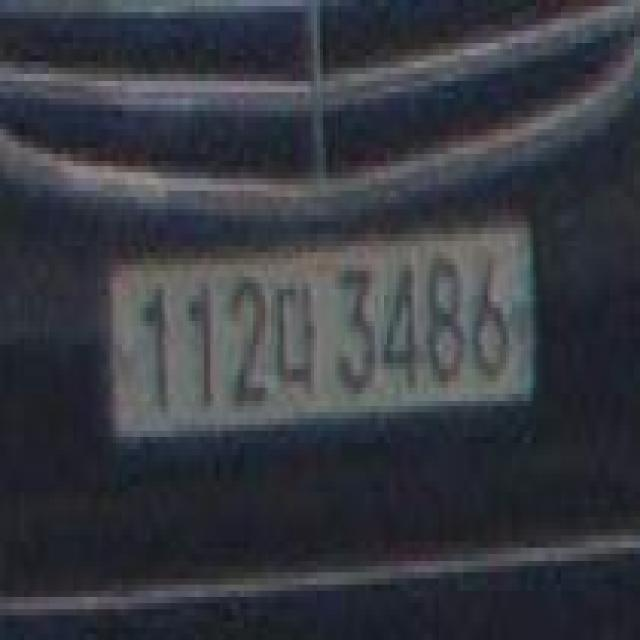illegal_plate: (100, 209, 544, 461)
